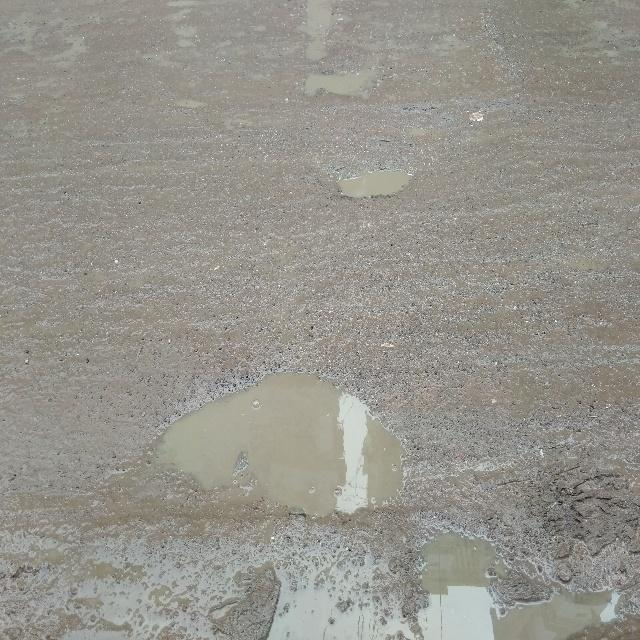Pothole: (200, 381, 420, 517), (412, 533, 529, 640), (336, 157, 412, 200)
Surface Erosion: (40, 22, 640, 640)
